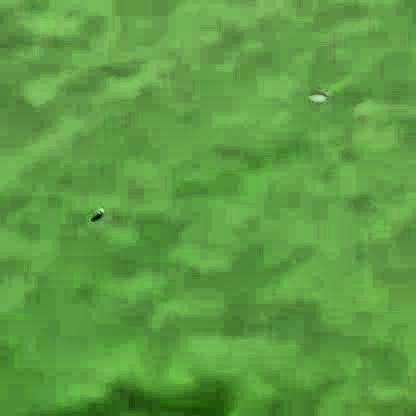golfball: (94, 206, 104, 213)
